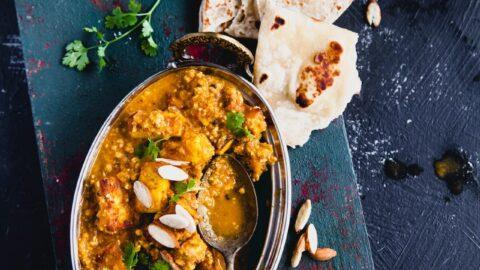paneer: (119, 121, 182, 234)
roti: (262, 13, 351, 107)
